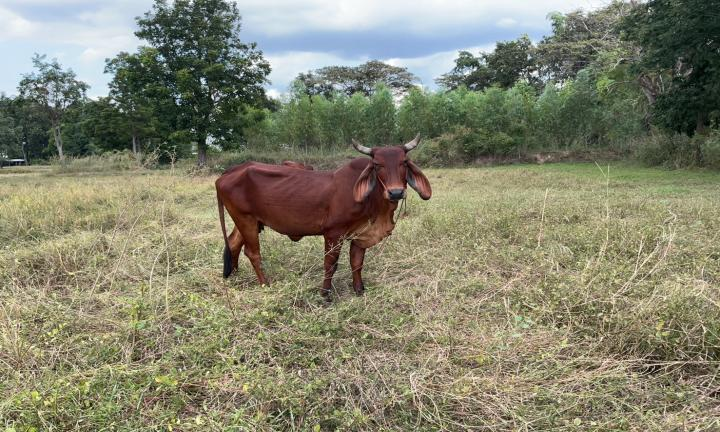Brahman: (216, 134, 431, 299)
